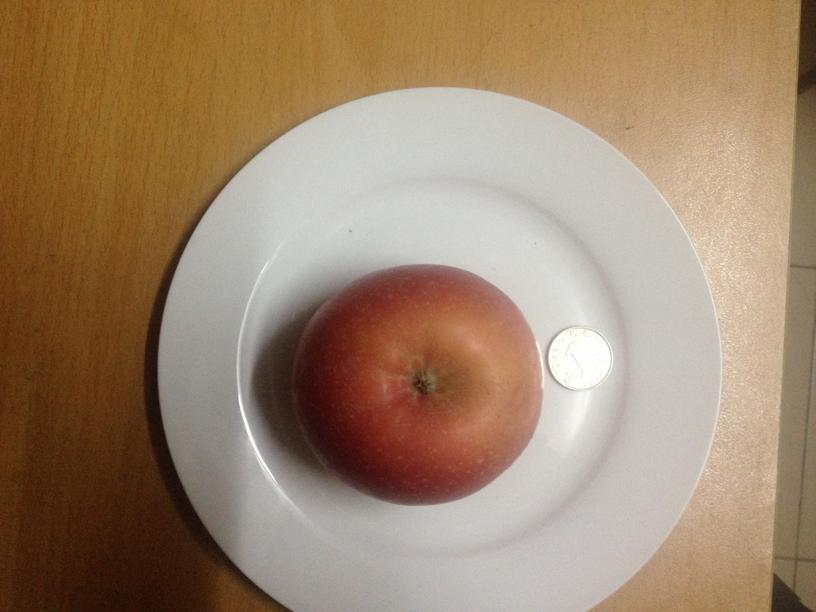apple: (290, 260, 543, 508)
coin: (546, 323, 613, 392)
